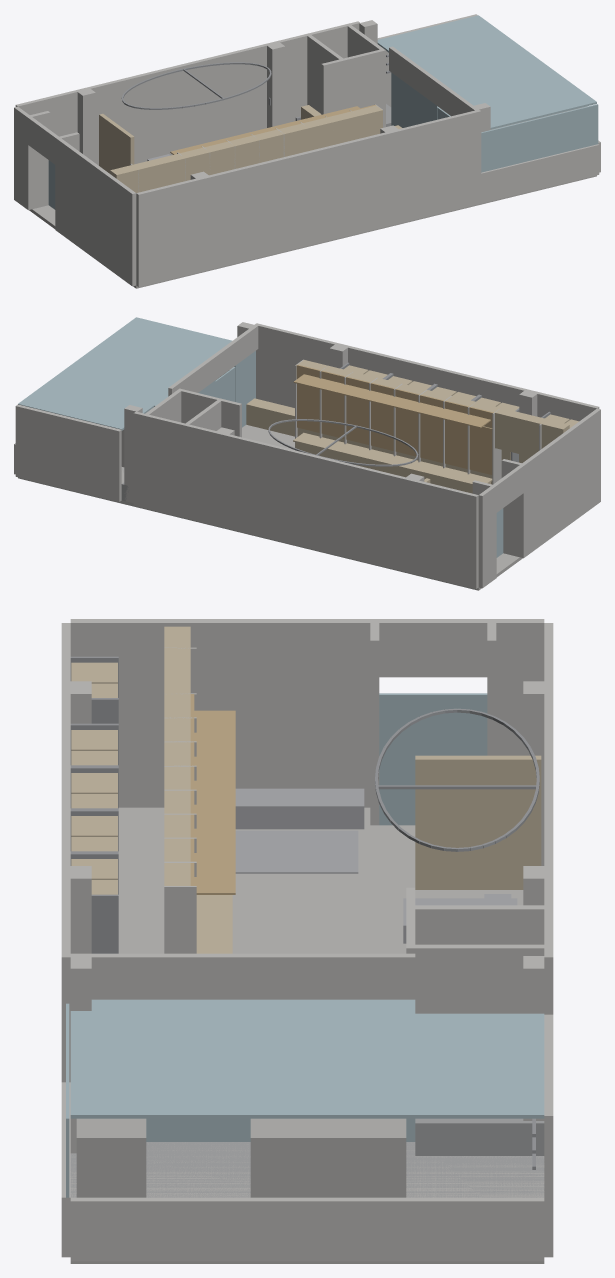
The model's file is showroom_massing.glb.
3 renders of one model, top to bottom at view 1: azimuth 30°, elevation 25°; view 2: azimuth 150°, elevation 25°; view 3: azimuth 270°, elevation 25°, orthographic. The views are drawn at different scales.
Visible parts, largest first — view 1: wall_south, wall_north, poly_roof, wall_west_s, inv_wall_e, ziptrack_s, patio_parapet_s, north_rooms_front, poly_roof_n, patio_head, patio_glazing_n, wall_west_n (+12 smaller); view 2: wall_north, wall_south, poly_roof, backlit_panel, patio_wall_n, wall_west_s, poly_roof_n, light_panel, workbench_top, inv_wall_e, patio_head, floor (+17 smaller); view 3: poly_roof, wall_west_s, floor, patio_parapet_e, feature_wall, patio_head, poly_roof_n, store_b, patio_deck, door_leaf, wc_wall_e, light_panel (+30 smaller).
Boxes of the visible parts, left/top/right/bottom form: wall_south: left=136, top=109, right=481, bottom=286; wall_north: left=15, top=21, right=359, bottom=165; poly_roof: left=415, top=39, right=596, bottom=129; wall_west_s: left=55, top=137, right=136, bottom=286; inv_wall_e: left=179, top=105, right=382, bottom=180; ziptrack_s: left=481, top=104, right=598, bottom=172; patio_parapet_s: left=481, top=144, right=599, bottom=203; north_rooms_front: left=321, top=48, right=385, bottom=127; poly_roof_n: left=377, top=15, right=510, bottom=62; patio_head: left=389, top=46, right=477, bottom=116; patio_glazing_n: left=391, top=72, right=437, bottom=127; wall_west_n: left=14, top=106, right=31, bottom=210; wall_north: left=133, top=411, right=478, bottom=588; wall_south: left=254, top=323, right=599, bottom=421; poly_roof: left=50, top=317, right=232, bottom=406; backlit_panel: left=297, top=383, right=492, bottom=474; patio_wall_n: left=15, top=404, right=121, bottom=501; wall_west_s: left=520, top=408, right=600, bottom=558; poly_roof_n: left=18, top=380, right=153, bottom=430; light_panel: left=293, top=374, right=490, bottom=428; workbench_top: left=293, top=432, right=492, bottom=485; inv_wall_e: left=297, top=360, right=500, bottom=484; patio_head: left=168, top=325, right=258, bottom=396; floor: left=18, top=424, right=522, bottom=590; poly_roof: left=70, top=999, right=415, bottom=1118; wall_west_s: left=70, top=619, right=379, bottom=807; floor: left=70, top=807, right=544, bottom=1263; patio_parapet_e: left=70, top=1197, right=544, bottom=1261; feature_wall: left=415, top=755, right=541, bottom=889; patio_head: left=70, top=953, right=415, bottom=999; poly_roof_n: left=415, top=1013, right=544, bottom=1118; store_b: left=250, top=1118, right=406, bottom=1197; patio_deck: left=70, top=1142, right=544, bottom=1197; door_leaf: left=379, top=693, right=487, bottom=825; wc_wall_e: left=415, top=944, right=544, bottom=1013; light_panel: left=194, top=710, right=235, bottom=894.
Bounding box in the file's own units: 18.05 × 3.52 × 8.2.
